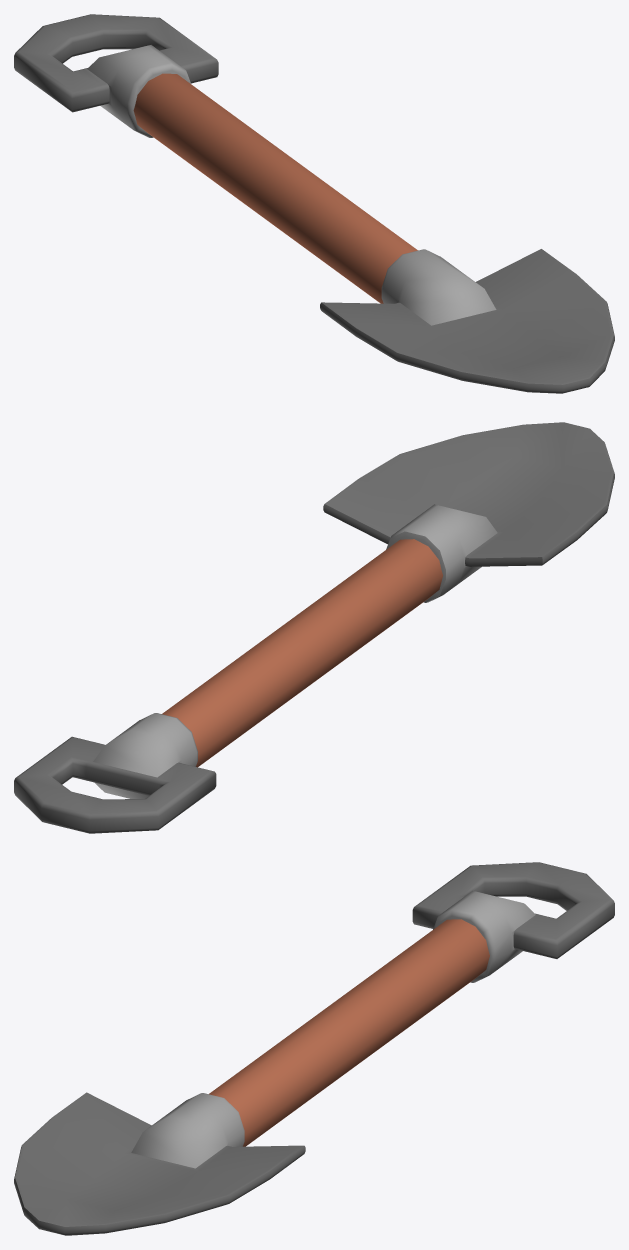
The model's file is Shovel.fbx.
3 renders of one model, top to bottom at view 1: azimuth 30°, elevation 25°; view 2: azimuth 150°, elevation 25°; view 3: azimuth 330°, elevation 25°, orthographic.
Visible parts, largest first — view 1: Shovel; view 2: Shovel; view 3: Shovel.
Boxes of the visible parts, left/top/right/bottom form: Shovel: left=14, top=14, right=614, bottom=393; Shovel: left=14, top=422, right=614, bottom=833; Shovel: left=14, top=862, right=614, bottom=1235.
Bounding box in the file's own units: 257 × 77.13 × 1030.
